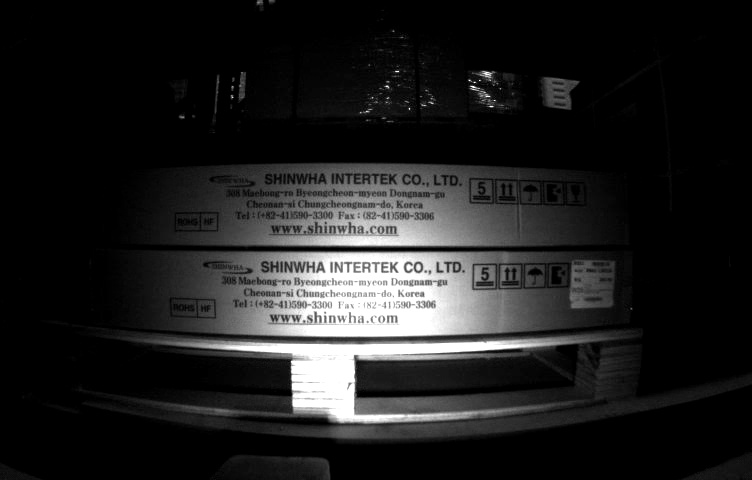True Barcode: (572, 260, 615, 309)
